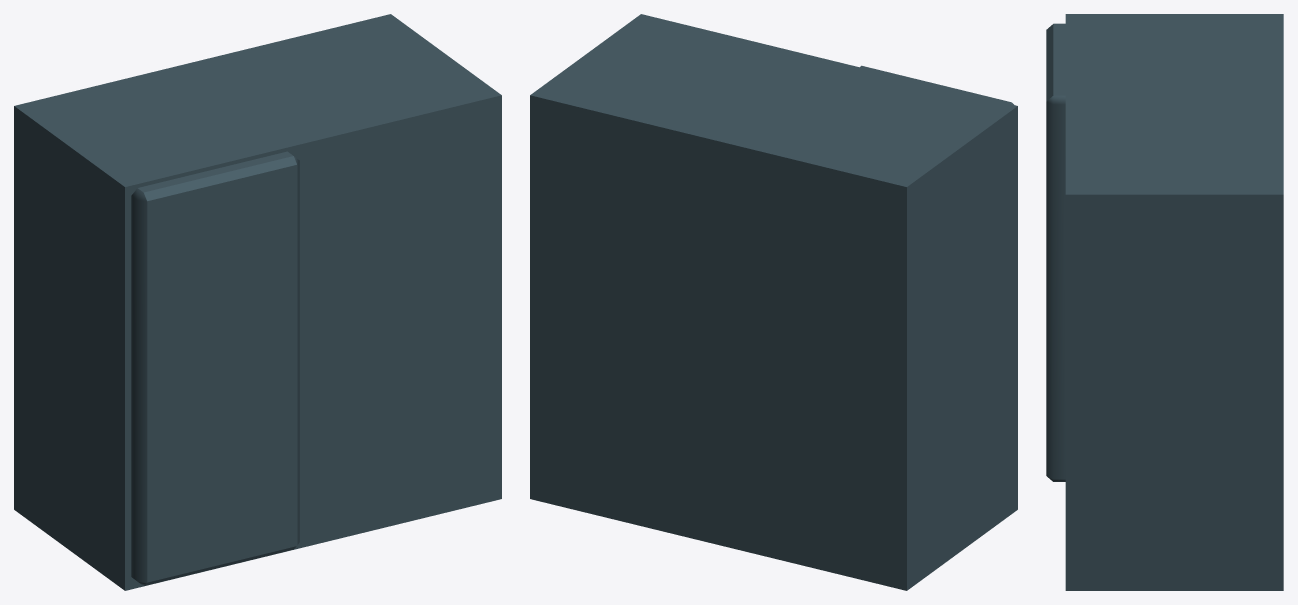
Rendered from kitchen_050.fbx.
The picture shows the model from 3 angles, left to right: view 1: azimuth 30°, elevation 25°; view 2: azimuth 150°, elevation 25°; view 3: azimuth 270°, elevation 25°; orthographic projection.
Visible parts, largest first — view 1: kitchen_050; view 2: kitchen_050; view 3: kitchen_050.
Part boxes in pixels (x1,y1,x2,y2): kitchen_050: [14, 14, 501, 590]; kitchen_050: [530, 14, 1017, 590]; kitchen_050: [1046, 14, 1283, 590].
Bounding box in the file's own units: 97.65 × 54.2 × 100.
